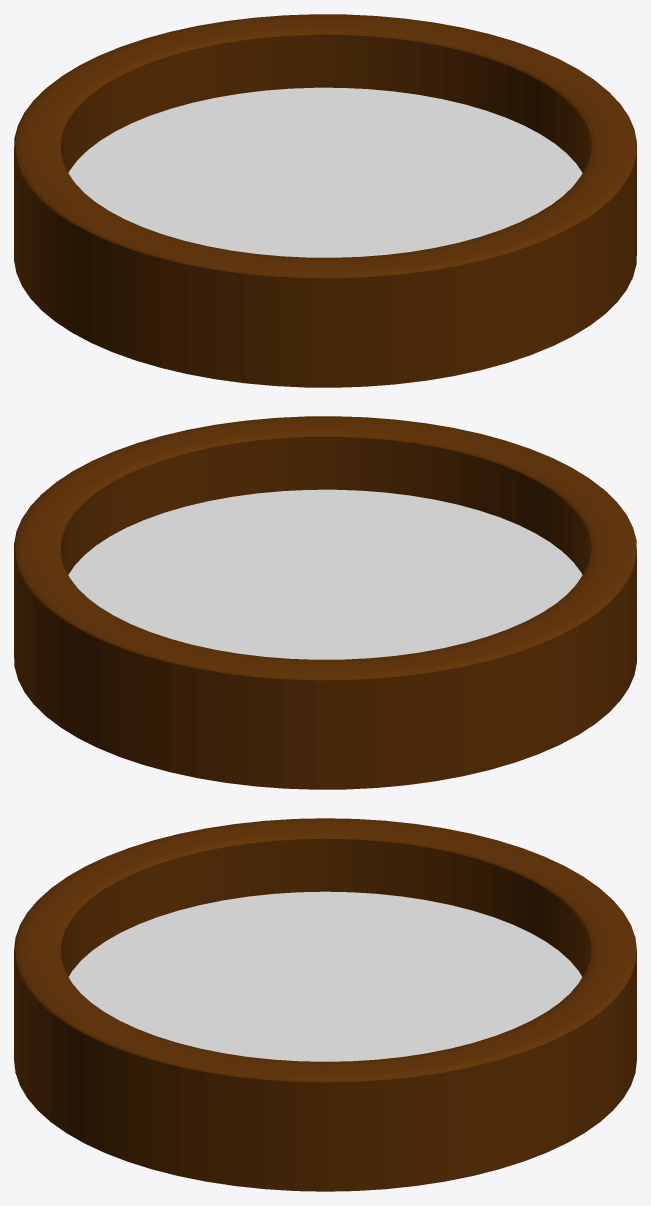
Rendered from emotionButton.fbx.
3 views of the same model, one above another, from view 1: azimuth 30°, elevation 25°; view 2: azimuth 150°, elevation 25°; view 3: azimuth 270°, elevation 25° (orthographic).
Parts seen in each view (by area): view 1: Cylinder; view 2: Cylinder; view 3: Cylinder.
Part boxes in pixels (left/top/right/bottom): Cylinder: left=14, top=14, right=636, bottom=387; Cylinder: left=14, top=416, right=636, bottom=789; Cylinder: left=14, top=818, right=636, bottom=1191.
Bounding box in the file's own units: 200 × 40 × 200.
